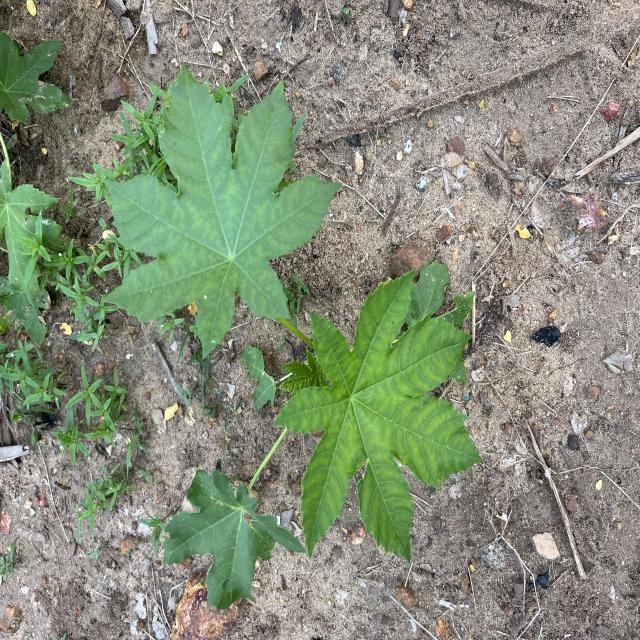Ricinus communis linn: (100, 55, 345, 371), (270, 264, 486, 568)
